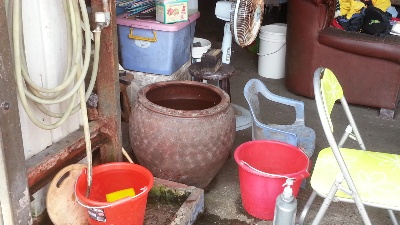bowl: (127, 78, 238, 195)
box: (117, 11, 202, 76)
bucket: (234, 136, 312, 220), (75, 162, 155, 225), (258, 23, 289, 82)
